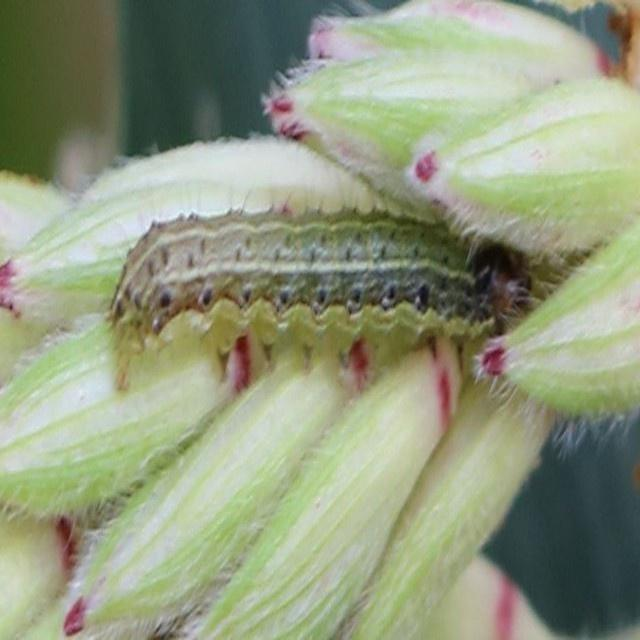gusano_cogollero: (102, 205, 500, 389)
